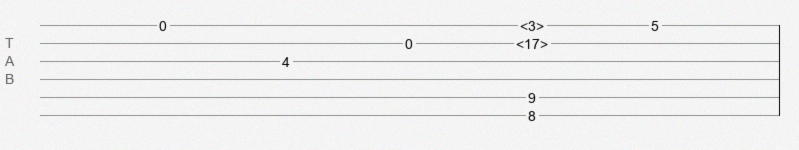0: (159, 18, 167, 28), (405, 36, 413, 46)
4: (282, 54, 290, 64)
5: (651, 18, 659, 28)
8: (528, 108, 536, 118)
9: (528, 90, 536, 100)
harmonic: (516, 36, 548, 46), (520, 18, 544, 28)
